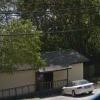Car: (59, 76, 93, 100)
